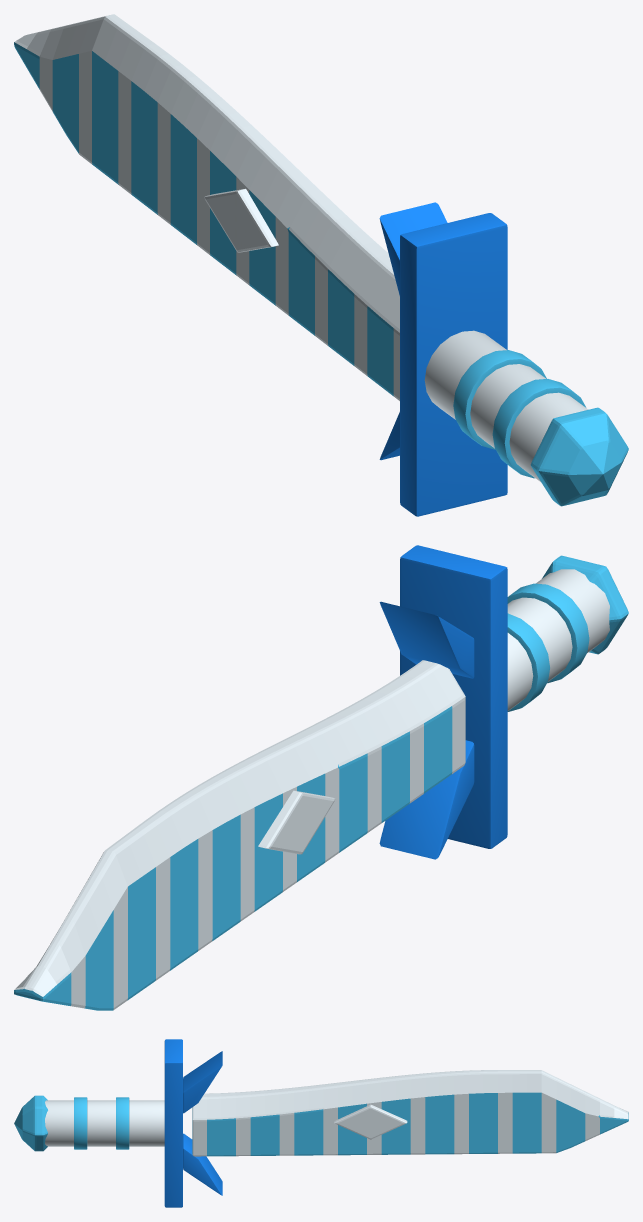
Rendered from Sword_GlacierFalchion.glb.
The picture shows the model from 3 angles, top to bottom: view 1: azimuth 30°, elevation 25°; view 2: azimuth 150°, elevation 25°; view 3: azimuth 270°, elevation 25°; orthographic projection. The views are drawn at different scales.
Parts seen in each view (by area): view 1: Sword_GlacierFalchion; view 2: Sword_GlacierFalchion; view 3: Sword_GlacierFalchion.
Part boxes in pixels (box(x1,y1,x2,y2)): Sword_GlacierFalchion: box(14, 14, 628, 516); Sword_GlacierFalchion: box(14, 545, 628, 1010); Sword_GlacierFalchion: box(14, 1039, 628, 1207).
Bounding box in the file's own units: 0.092 × 0.26 × 1.
Materials: 1 (1 with a texture image).
